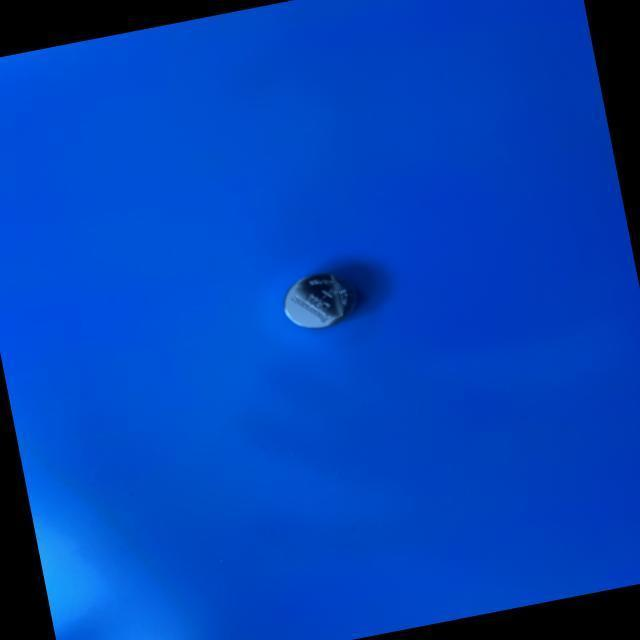COIN: (274, 265, 365, 335)
